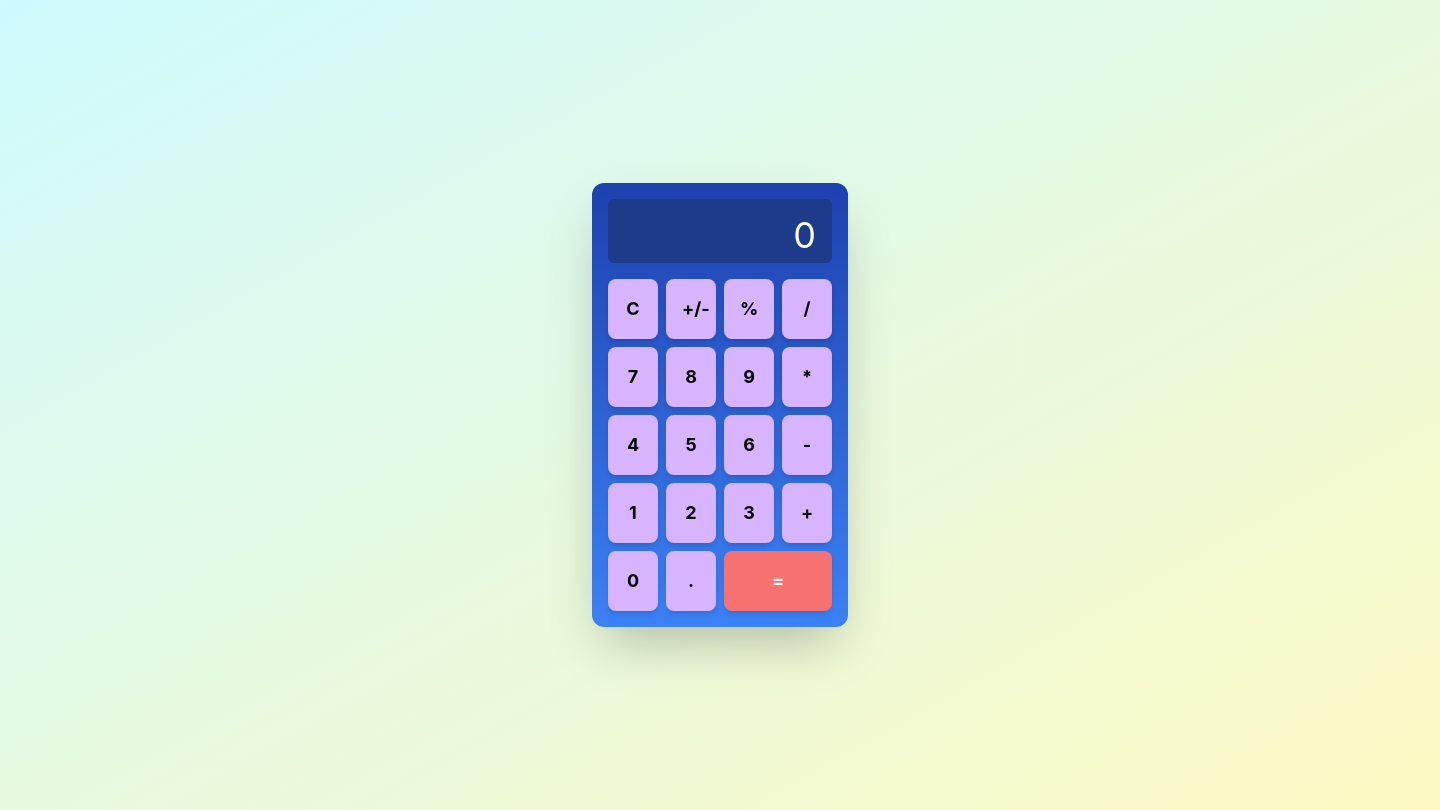
Test: divides two numbers correctly
The image size is (1440, 810).
Click the button "8": (691, 377) [666,347,716,407]
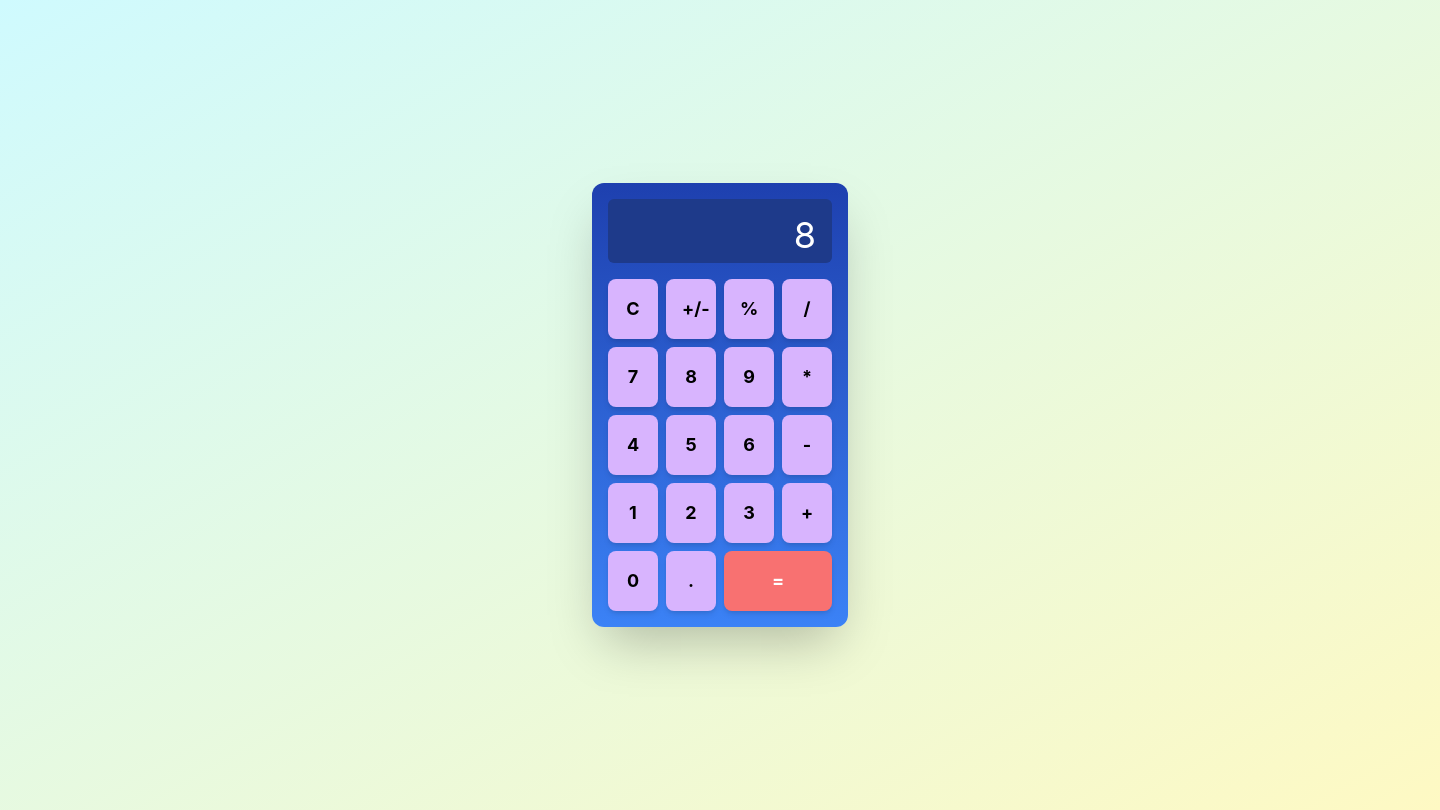
Click the button "/": (807, 309) [782,279,832,339]
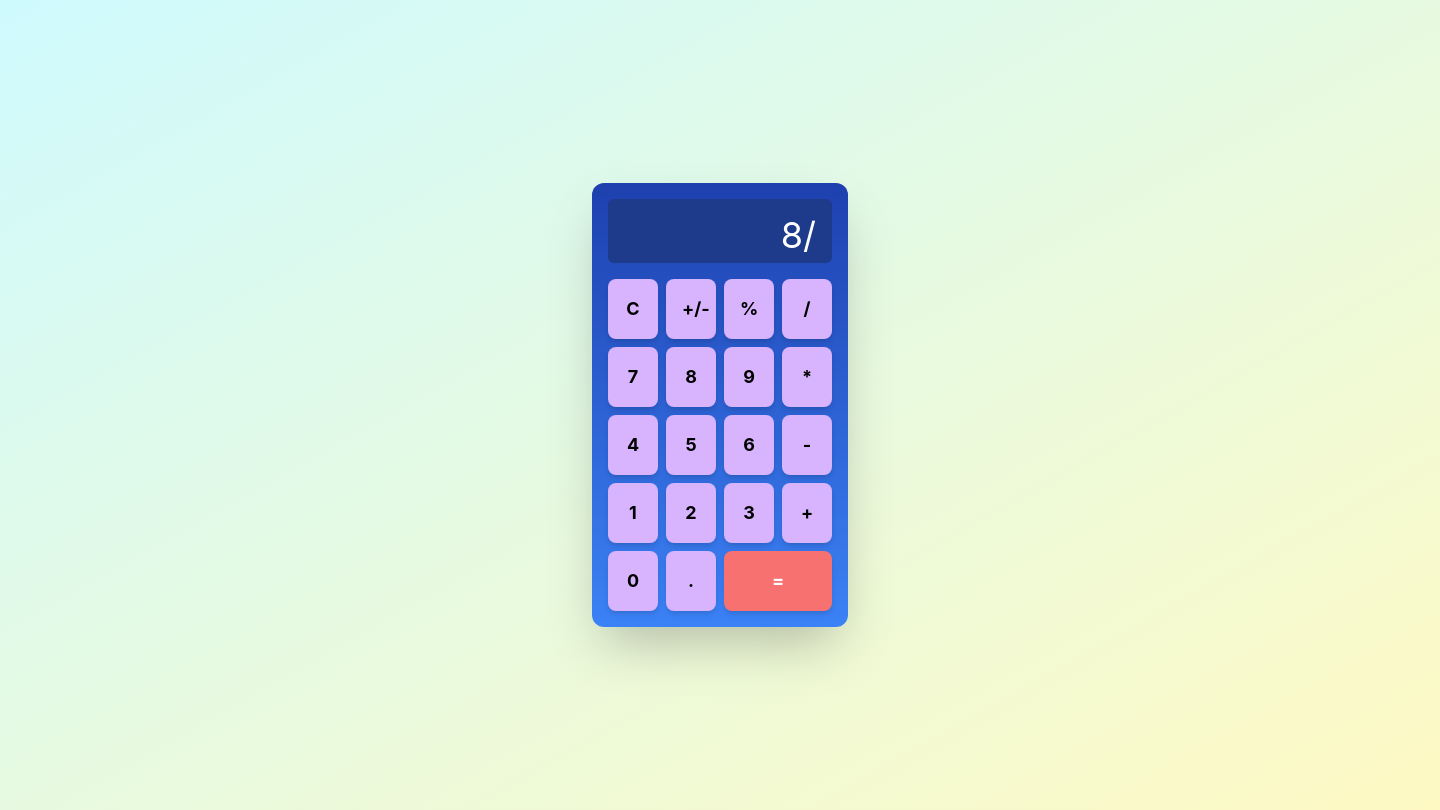
Click the button "2": (691, 513) [666,483,716,543]
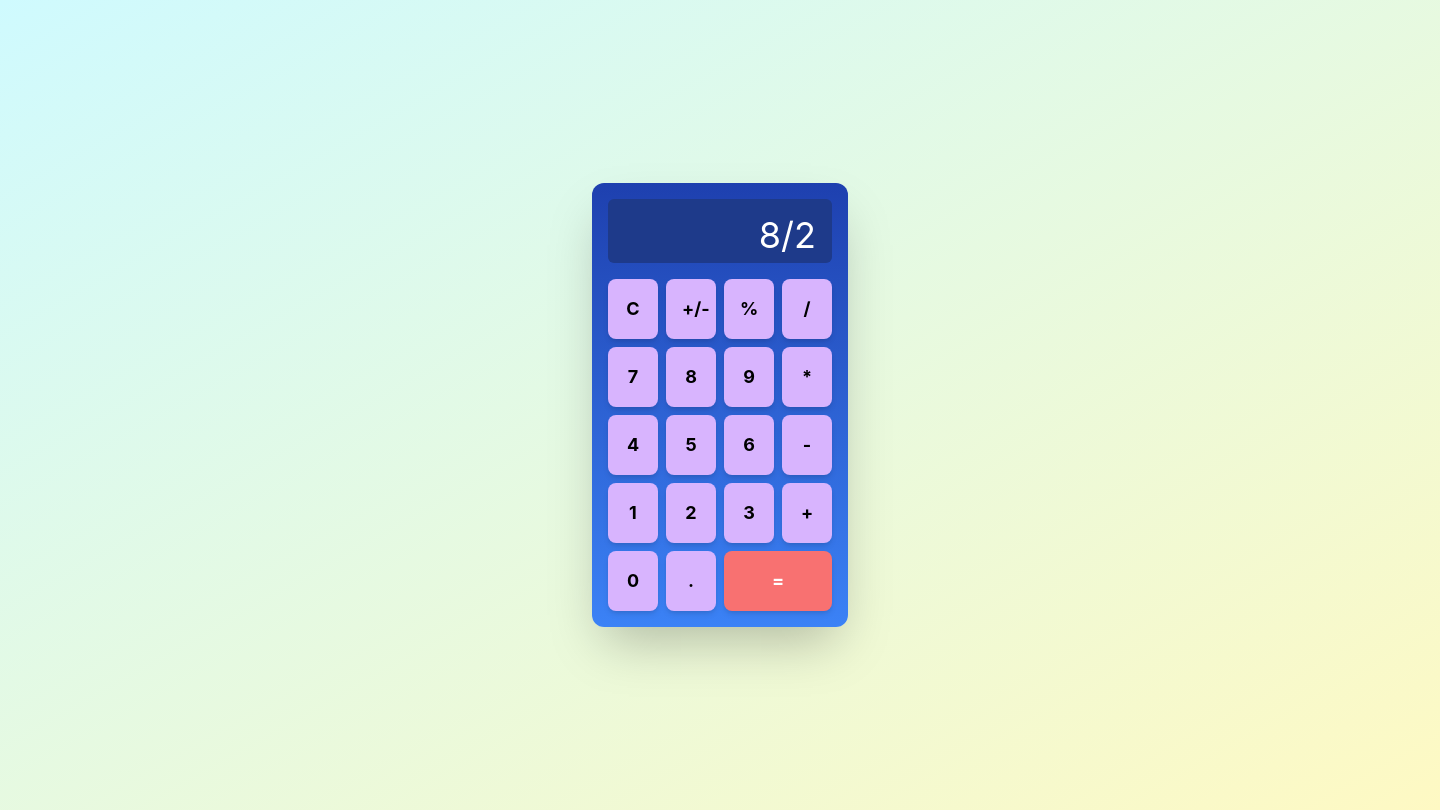
Click the button "=": (778, 581) [724,551,832,611]
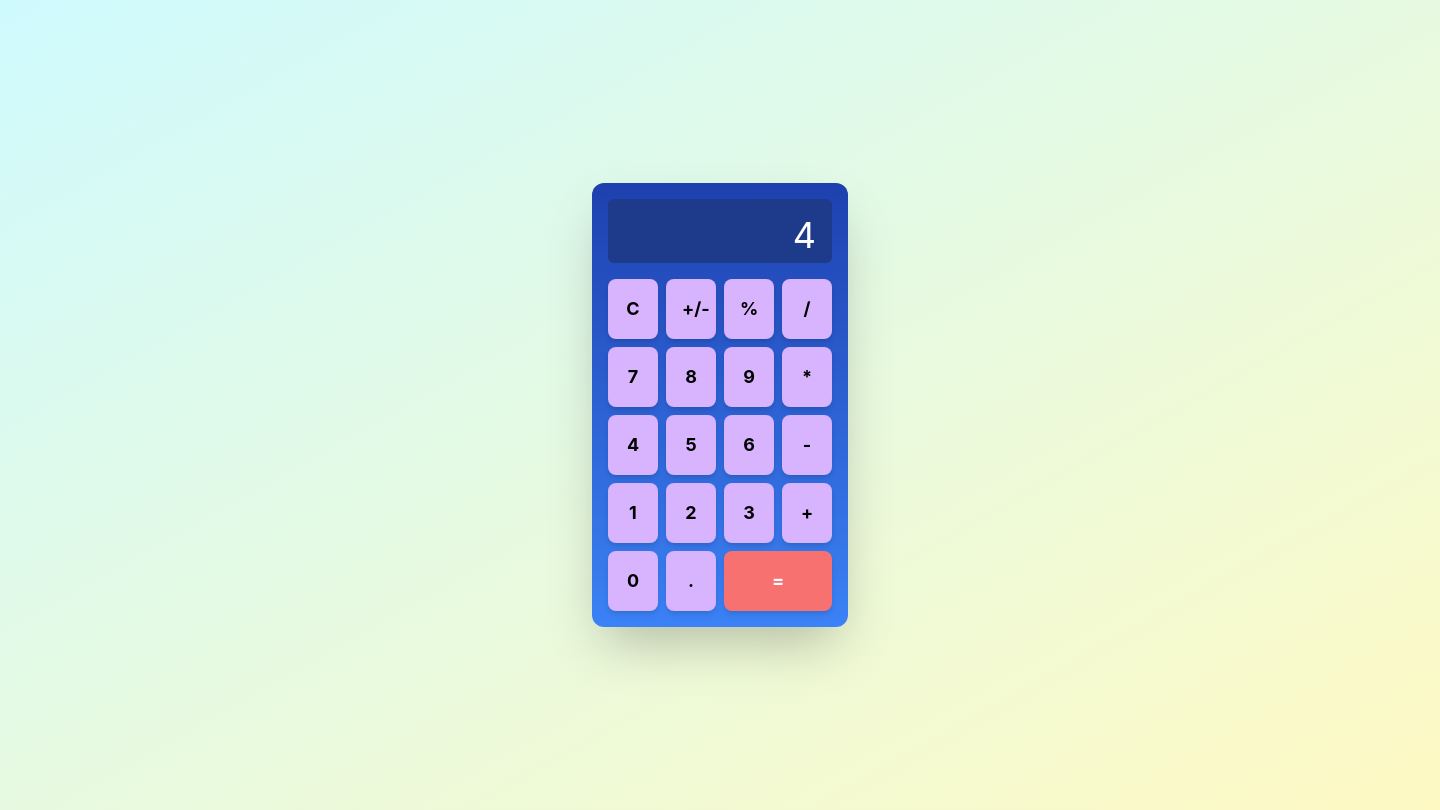
Expected: the text with test id "display" reads "4", [793,213,816,257]
